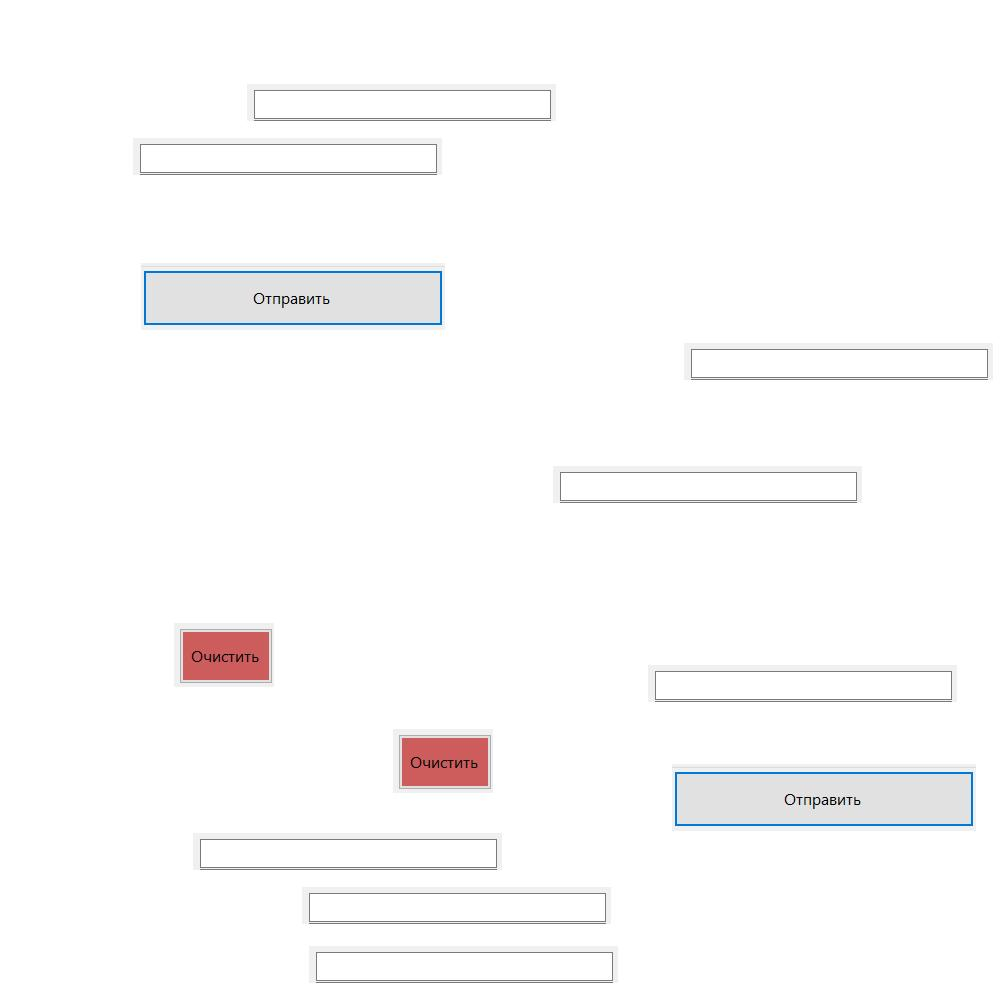Button: (672, 764, 976, 831), (141, 263, 445, 330), (393, 729, 493, 793), (174, 623, 274, 687)
EditText-: (648, 665, 957, 702), (309, 946, 618, 983), (193, 833, 502, 870), (553, 466, 862, 503), (247, 84, 556, 121), (302, 887, 611, 924), (133, 138, 442, 175), (684, 343, 993, 380)
